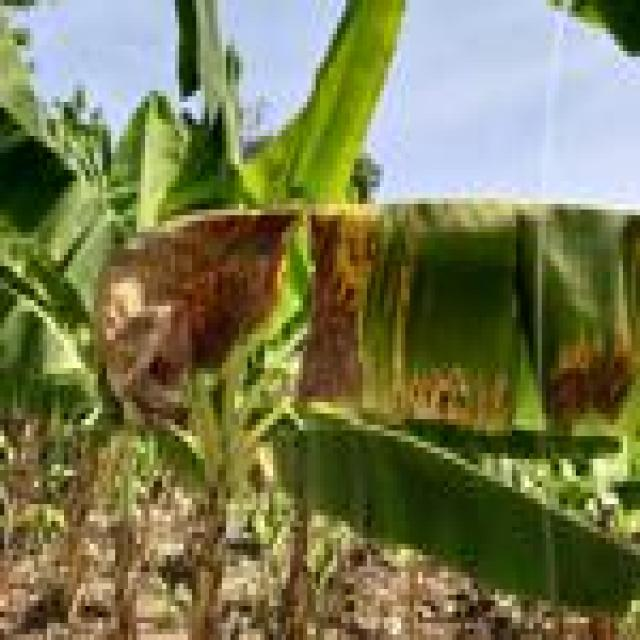Early_rust: (136, 181, 640, 453)
